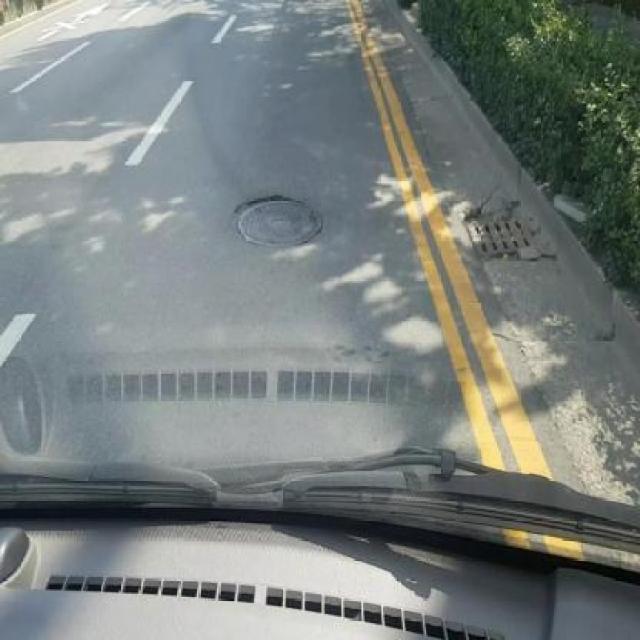Manhole: (228, 194, 322, 251), (473, 212, 535, 258)
